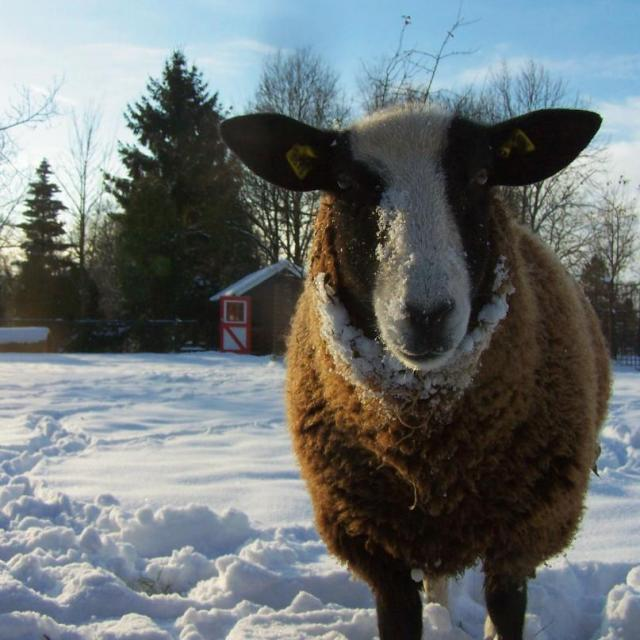Sheep: (218, 95, 612, 640)
